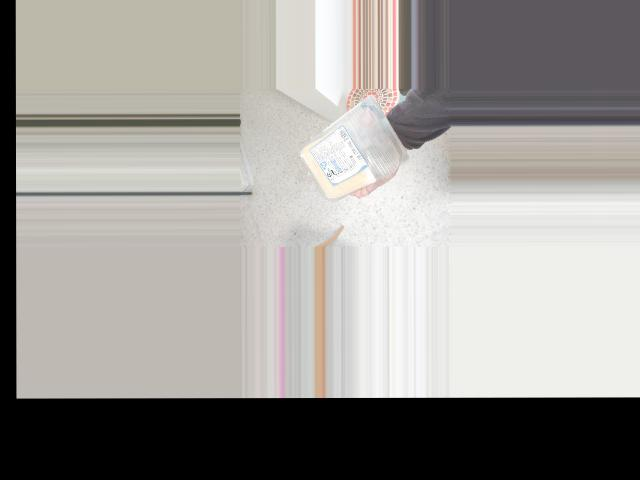cheese: (295, 104, 394, 187)
